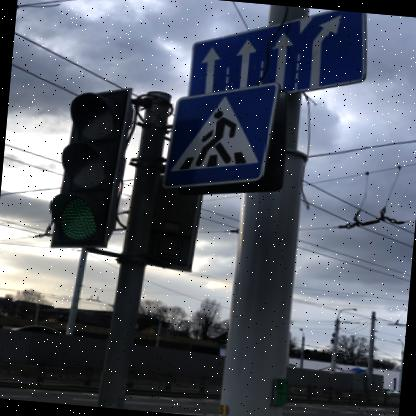crosswalk: (162, 73, 278, 196)
trafficlight: (42, 82, 132, 254)
